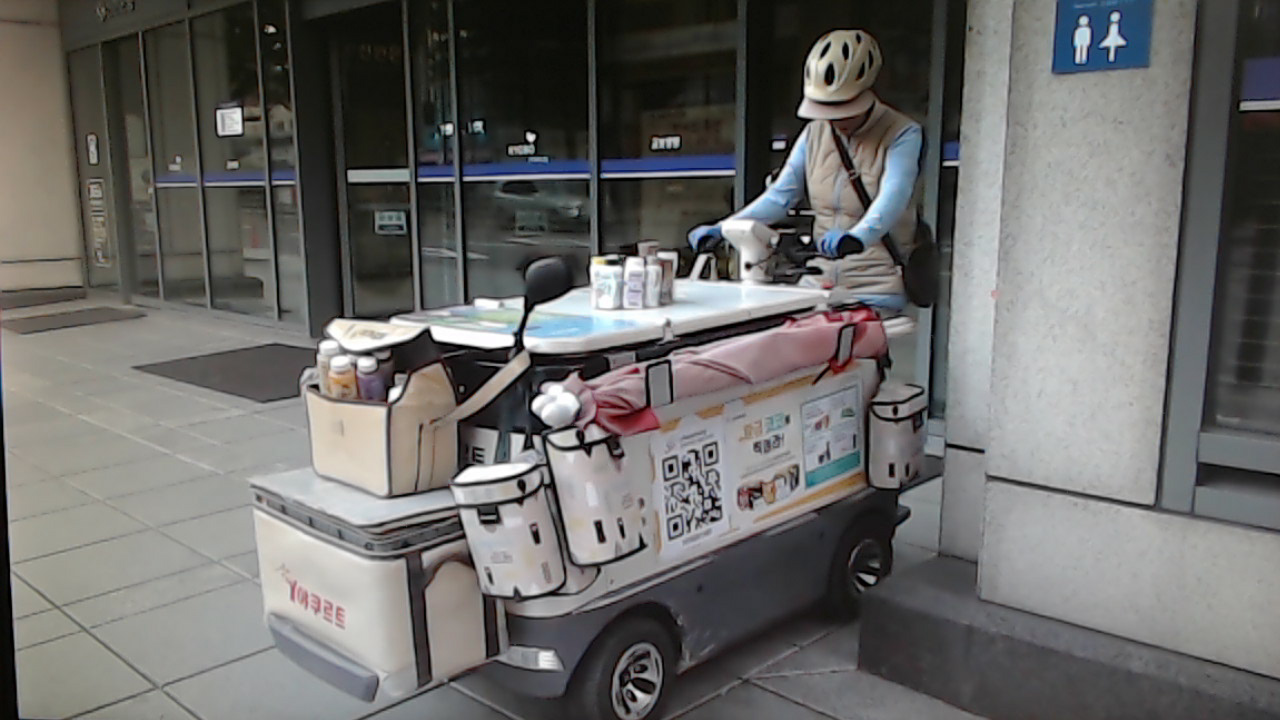Yakurut: (674, 25, 962, 325)
